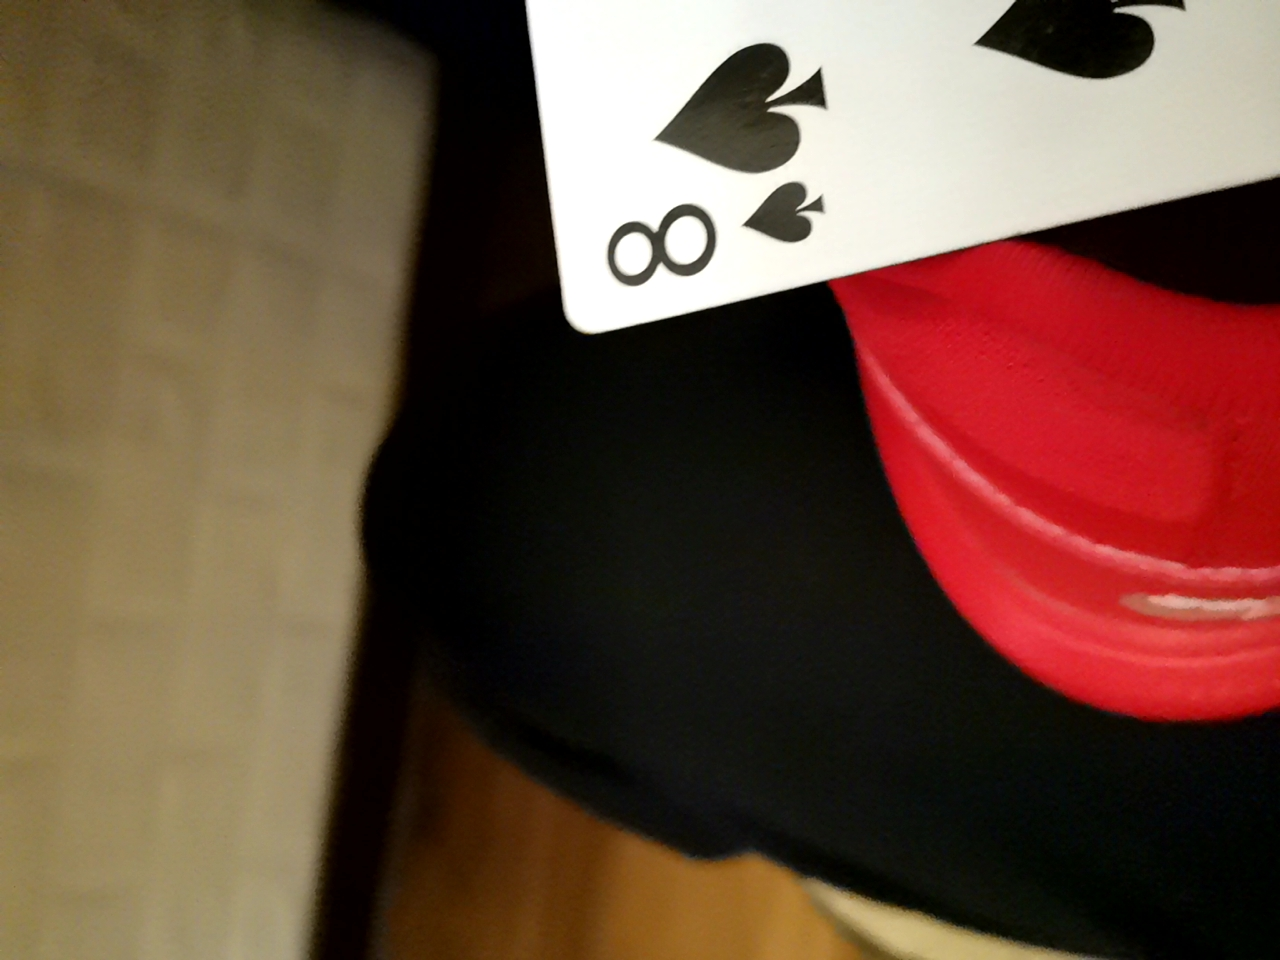ht 8: (511, 0, 1280, 311)
